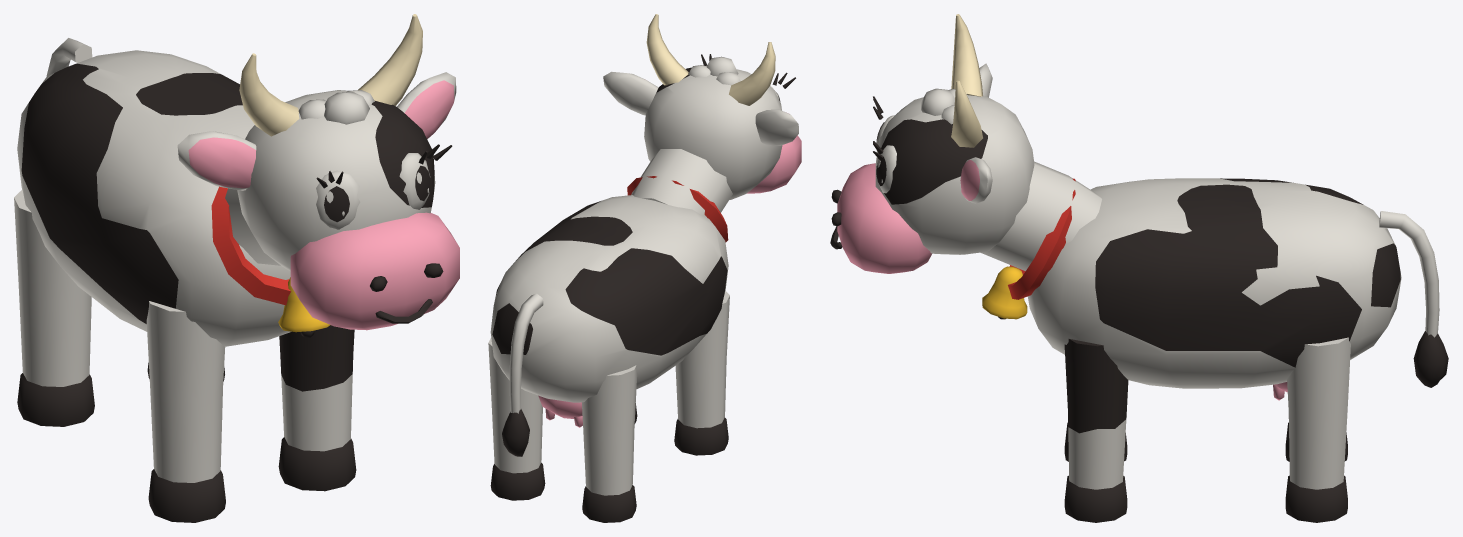
File: cow.glb
3 renders of one model, left to right at view 1: azimuth 30°, elevation 25°; view 2: azimuth 150°, elevation 25°; view 3: azimuth 270°, elevation 25°, orthographic. The views are drawn at different scales.
Visible parts, largest first — view 1: body, head, leg_fr, leg_br, leg_fl, tail; view 2: body, head, leg_br, leg_fr, leg_bl, tail; view 3: body, head, leg_bl, leg_fl, tail.
Part boxes in pixels (box(x1,y1,x2,y2)): body: box(17, 50, 330, 346); head: box(177, 14, 459, 330); leg_fr: box(146, 301, 225, 522); leg_br: box(14, 189, 94, 426); leg_fl: box(278, 325, 356, 491); tail: box(46, 38, 92, 76); body: box(490, 176, 728, 427); head: box(603, 14, 801, 216); leg_br: box(582, 365, 637, 522); leg_fr: box(674, 291, 729, 455); leg_bl: box(488, 337, 545, 500); tail: box(502, 293, 543, 456); body: box(982, 178, 1401, 400); head: box(830, 14, 1101, 273); leg_bl: box(1285, 337, 1350, 522); leg_fl: box(1064, 339, 1128, 522); tail: box(1379, 211, 1448, 387).
Size of the model in its own units: 1.01 by 1.78 by 2.3.
